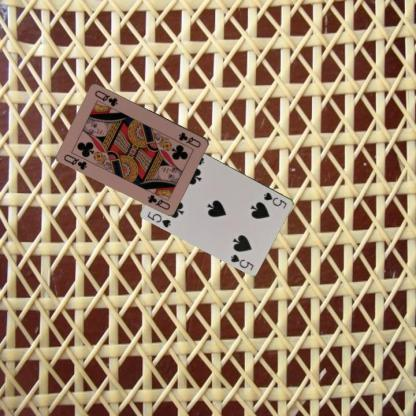5s: (261, 190, 288, 210), (145, 208, 172, 228)
Qc: (62, 151, 88, 171), (176, 130, 202, 148)
